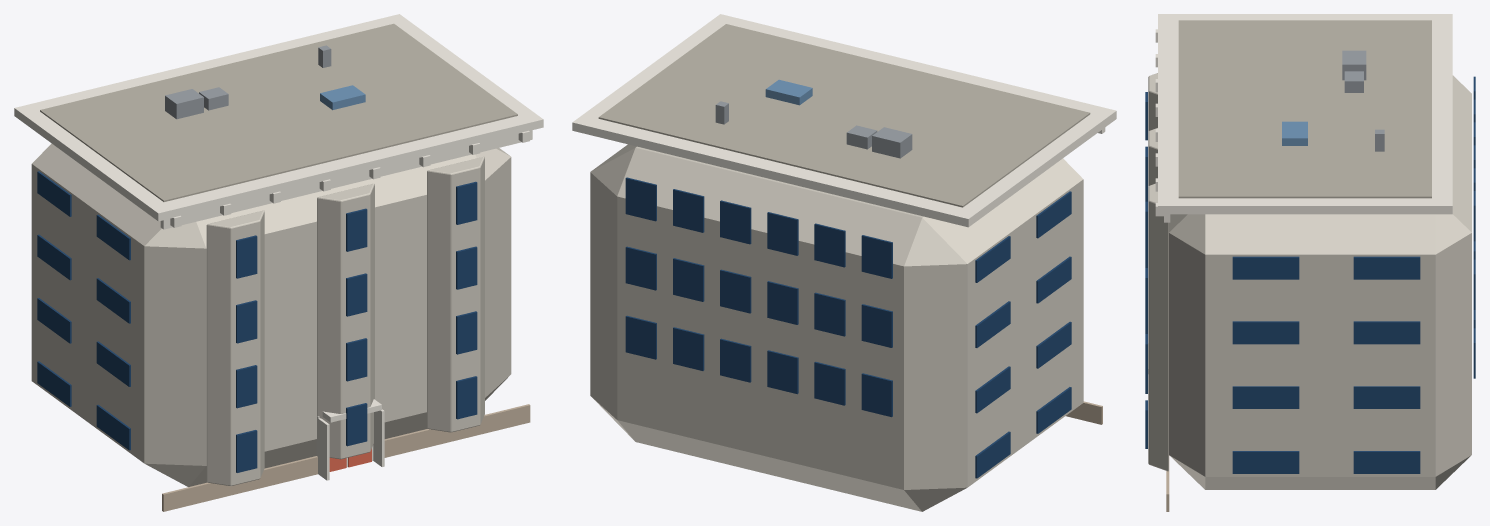
The model's file is apt_w20_f4_bays.glb.
3 views of the same model, side by side, from view 1: azimuth 30°, elevation 25°; view 2: azimuth 150°, elevation 25°; view 3: azimuth 270°, elevation 25° (orthographic). The views are drawn at different scales.
Parts seen in each view (by area): view 1: walls, roofslab, corn, bay, bay.002, bay.001, bsmt, frieze, hvac, bw.003, bw.006, bw.007 (+20 smaller); view 2: walls, roofslab, corn, win.008, win.009, win.017, win.002, win.007, win, win.003, win.005, win.011 (+19 smaller); view 3: walls, roofslab, corn, bay.002, sb.009, sb.011, sb.013, sb.015, sb.001, sb.003, sb.005, sb.007 (+5 smaller).
Boxes of the visible parts, bbox=[...] form: walls: bbox=[31, 143, 511, 486]; roofslab: bbox=[40, 23, 517, 201]; corn: bbox=[14, 14, 543, 221]; bay: bbox=[206, 210, 264, 486]; bay.002: bbox=[427, 156, 484, 432]; bay.001: bbox=[317, 183, 374, 459]; bsmt: bbox=[162, 404, 530, 511]; frieze: bbox=[160, 130, 532, 229]; hvac: bbox=[165, 89, 203, 119]; bw.003: bbox=[236, 235, 257, 278]; bw.006: bbox=[346, 273, 367, 316]; bw.007: bbox=[346, 208, 367, 251]; walls: bbox=[590, 144, 1083, 511]; roofslab: bbox=[598, 24, 1090, 207]; corn: bbox=[572, 14, 1116, 227]; win.008: bbox=[767, 281, 798, 324]; win.009: bbox=[720, 269, 751, 313]; win.017: bbox=[625, 177, 656, 221]; win.002: bbox=[767, 350, 798, 394]; win.007: bbox=[814, 292, 845, 336]; win: bbox=[861, 373, 892, 417]; win.003: bbox=[720, 338, 751, 382]; win.005: bbox=[625, 315, 656, 359]; win.011: bbox=[625, 246, 656, 290]; walls: bbox=[1169, 75, 1471, 489]; roofslab: bbox=[1178, 20, 1431, 198]; corn: bbox=[1158, 14, 1452, 214]; bay.002: bbox=[1148, 183, 1168, 471]; sb.009: bbox=[1232, 321, 1299, 344]; sb.011: bbox=[1353, 321, 1420, 344]; sb.013: bbox=[1232, 256, 1299, 279]; sb.015: bbox=[1353, 256, 1420, 279]; sb.001: bbox=[1232, 451, 1299, 473]; sb.003: bbox=[1353, 451, 1420, 473]; sb.005: bbox=[1232, 386, 1299, 408]; sb.007: bbox=[1353, 386, 1420, 408].
Bounding box in the file's own units: 21 × 16.8 × 15.26.
